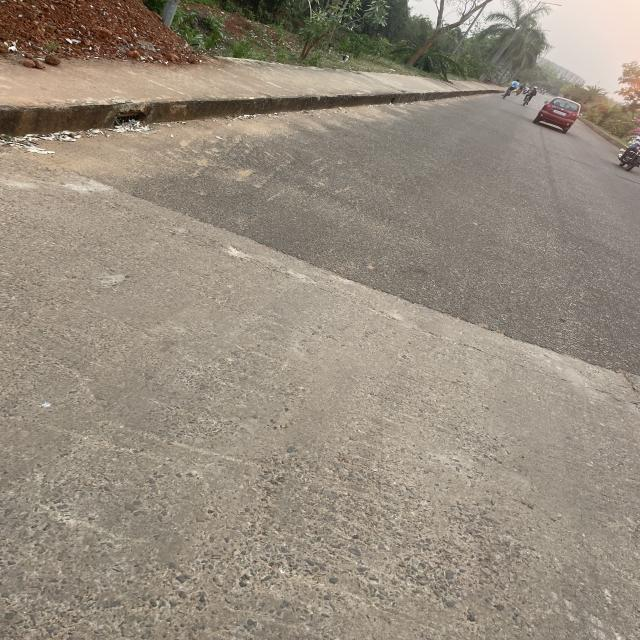D43: (47, 158, 625, 399)
